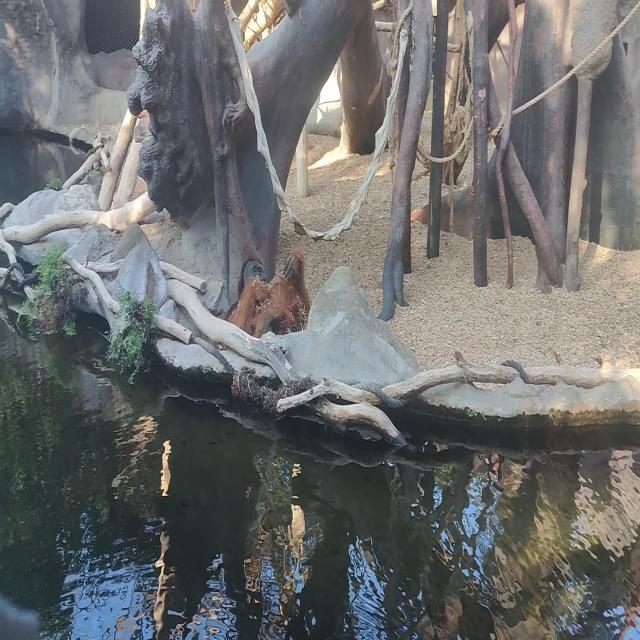monkey: (224, 247, 310, 339)
